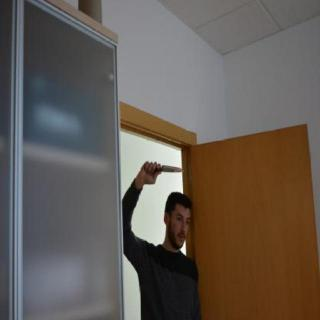knife: (144, 161, 186, 175)
